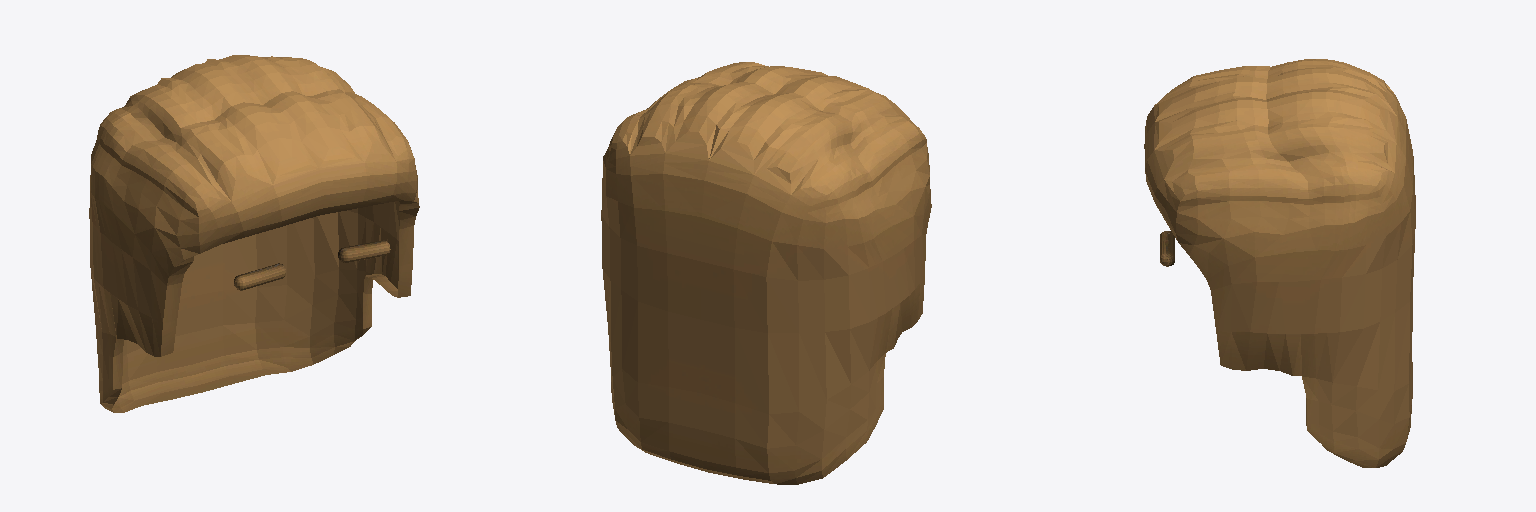
The picture shows the model from 3 angles: view 1: azimuth 30°, elevation 25°; view 2: azimuth 150°, elevation 25°; view 3: azimuth 270°, elevation 25°; orthographic projection.
Visible parts, largest first — view 1: Hair, Body; view 2: Hair; view 3: Hair.
Part boxes in pixels (x1,y1,x2,y2): Hair: (89,55,419,412); Body: (234,240,390,290); Hair: (601,62,931,484); Hair: (1144,59,1415,467).
Bounding box in the file's own units: 0.2368 × 0.2905 × 0.2056.
Materials: 2 (1 with a texture image).